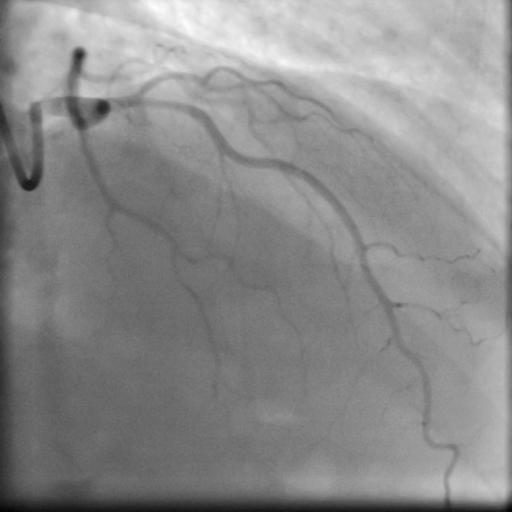Stenosis: (133, 95, 189, 114)
